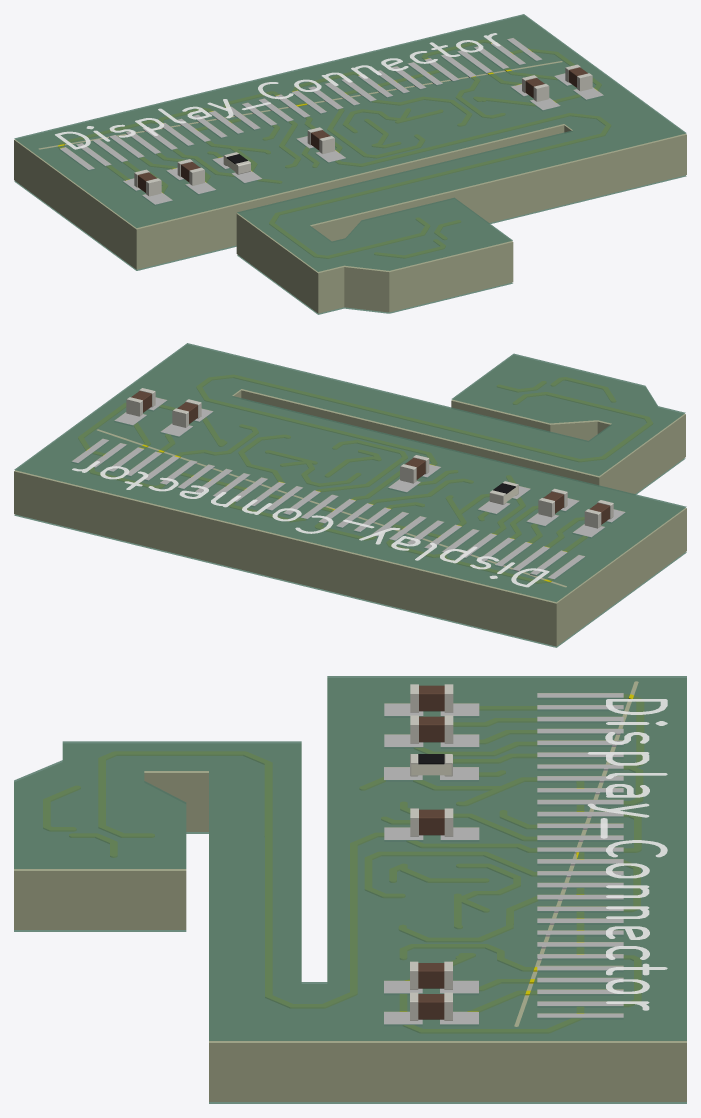
The model's file is F91-Display_Connector.glb.
3 views of the same model, one above another, from view 1: azimuth 30°, elevation 25°; view 2: azimuth 150°, elevation 25°; view 3: azimuth 270°, elevation 25° (orthographic). The views are drawn at different scales.
Parts seen in each view (by area): view 1: =>[0:1:1:11], =>[0:1:1:9], =>[0:1:1:6], =>[0:1:1:7], =>[0:1:1:3] (×5), =>[0:1:1:8], =>[0:1:1:10]; view 2: =>[0:1:1:11], =>[0:1:1:9], =>[0:1:1:6], =>[0:1:1:7], =>[0:1:1:3] (×5), =>[0:1:1:8], =>[0:1:1:10], =>[0:1:1:5]; view 3: =>[0:1:1:11], =>[0:1:1:9], =>[0:1:1:7], =>[0:1:1:6], =>[0:1:1:3] (×5), =>[0:1:1:8], =>[0:1:1:10], =>[0:1:1:5].
Part boxes in pixels (x1=…): =>[0:1:1:11]: x1=14, y1=16, x2=686, y2=313; =>[0:1:1:9]: x1=14, y1=14, x2=686, y2=271; =>[0:1:1:6]: x1=58, y1=40, x2=610, y2=258; =>[0:1:1:7]: x1=60, y1=38, x2=603, y2=205; =>[0:1:1:3] (×5): x1=134, y1=64, x2=592, y2=196; =>[0:1:1:8]: x1=55, y1=33, x2=500, y2=149; =>[0:1:1:10]: x1=14, y1=175, x2=686, y2=314; =>[0:1:1:11]: x1=14, y1=345, x2=686, y2=646; =>[0:1:1:9]: x1=14, y1=343, x2=686, y2=602; =>[0:1:1:6]: x1=78, y1=375, x2=652, y2=583; =>[0:1:1:7]: x1=72, y1=397, x2=625, y2=579; =>[0:1:1:3] (×5): x1=126, y1=388, x2=613, y2=528; =>[0:1:1:8]: x1=72, y1=461, x2=549, y2=587; =>[0:1:1:10]: x1=14, y1=458, x2=686, y2=647; =>[0:1:1:5]: x1=489, y1=481, x2=518, y2=504; =>[0:1:1:11]: x1=14, y1=678, x2=686, y2=1101; =>[0:1:1:9]: x1=14, y1=676, x2=686, y2=1040; =>[0:1:1:7]: x1=384, y1=693, x2=623, y2=1025; =>[0:1:1:6]: x1=43, y1=694, x2=643, y2=1032; =>[0:1:1:3] (×5): x1=410, y1=684, x2=453, y2=1020; =>[0:1:1:8]: x1=587, y1=699, x2=667, y2=1010; =>[0:1:1:10]: x1=14, y1=832, x2=686, y2=1103; =>[0:1:1:5]: x1=410, y1=754, x2=452, y2=776.
Size of the model in its own units: 0.02 by 0.00215 by 0.0156.
